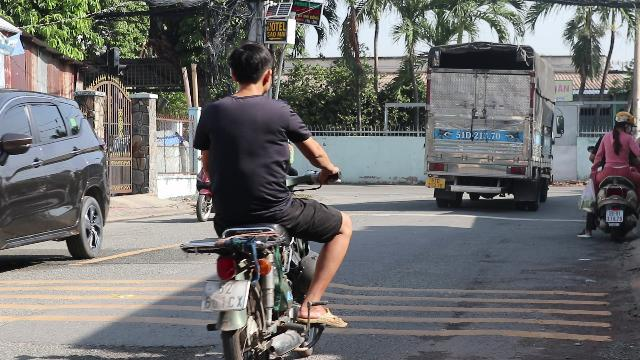helmet: (614, 111, 634, 131)
licenseplate: (203, 282, 247, 310), (607, 210, 623, 222)
motorcyclist: (178, 42, 358, 358), (578, 109, 640, 241)
nohelmet: (226, 42, 274, 94)
